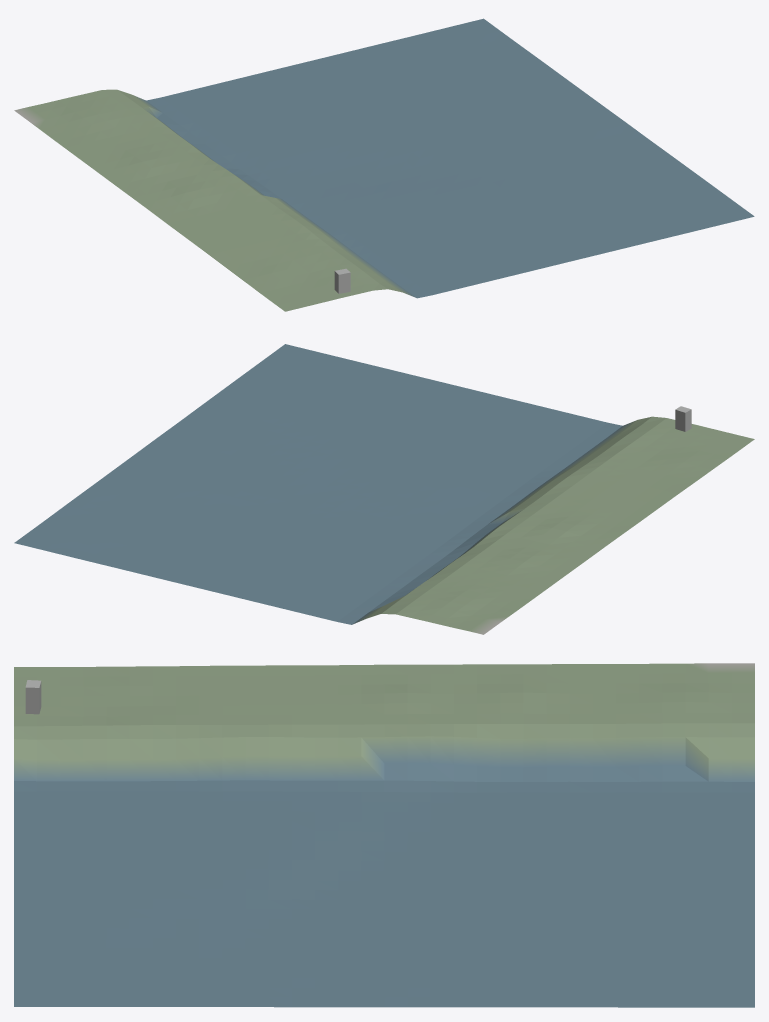
File: tile_3_0.glb
3 renders of one model, top to bottom at view 1: azimuth 30°, elevation 25°; view 2: azimuth 150°, elevation 25°; view 3: azimuth 270°, elevation 25°, orthographic. The views are drawn at different scales.
Parts seen in each view (by area): view 1: terrain; view 2: terrain; view 3: terrain.
Part boxes in pixels (x1=…): terrain: x1=14, y1=18, x2=754, y2=311; terrain: x1=14, y1=344, x2=754, y2=634; terrain: x1=14, y1=663, x2=754, y2=1007.
Size of the model in its own units: 256 by 20.57 by 256.
